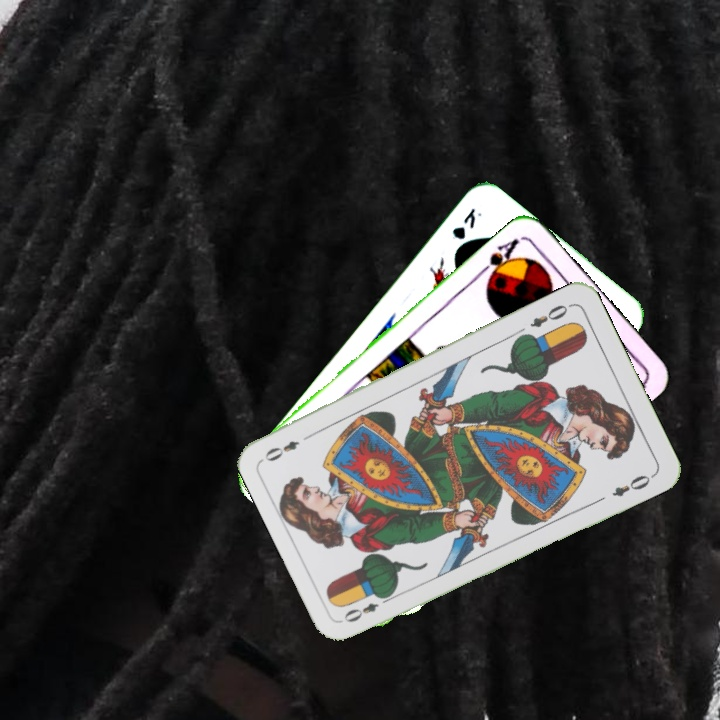EO: (339, 591, 395, 625), (526, 299, 574, 330)
GK: (447, 203, 485, 243)
SA: (475, 234, 523, 285)
